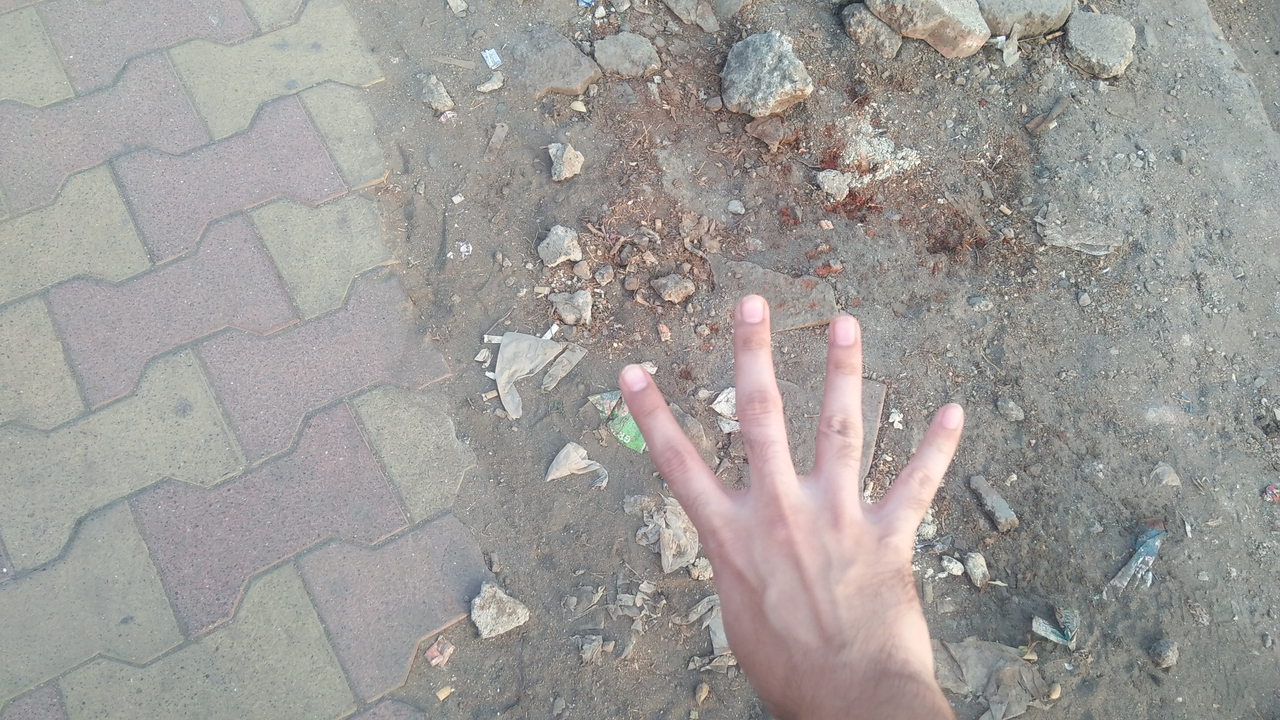fingertip: (922, 394, 982, 448), (610, 356, 664, 412), (730, 286, 782, 336), (820, 304, 872, 354)
